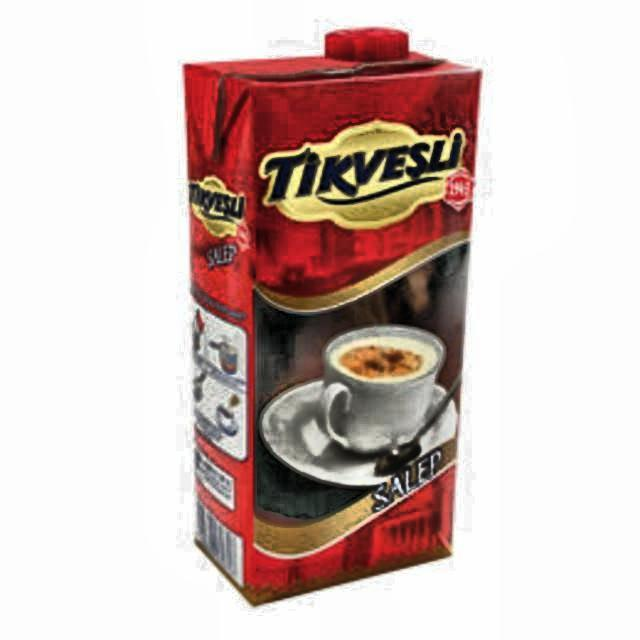cardboard: (181, 29, 483, 609)
